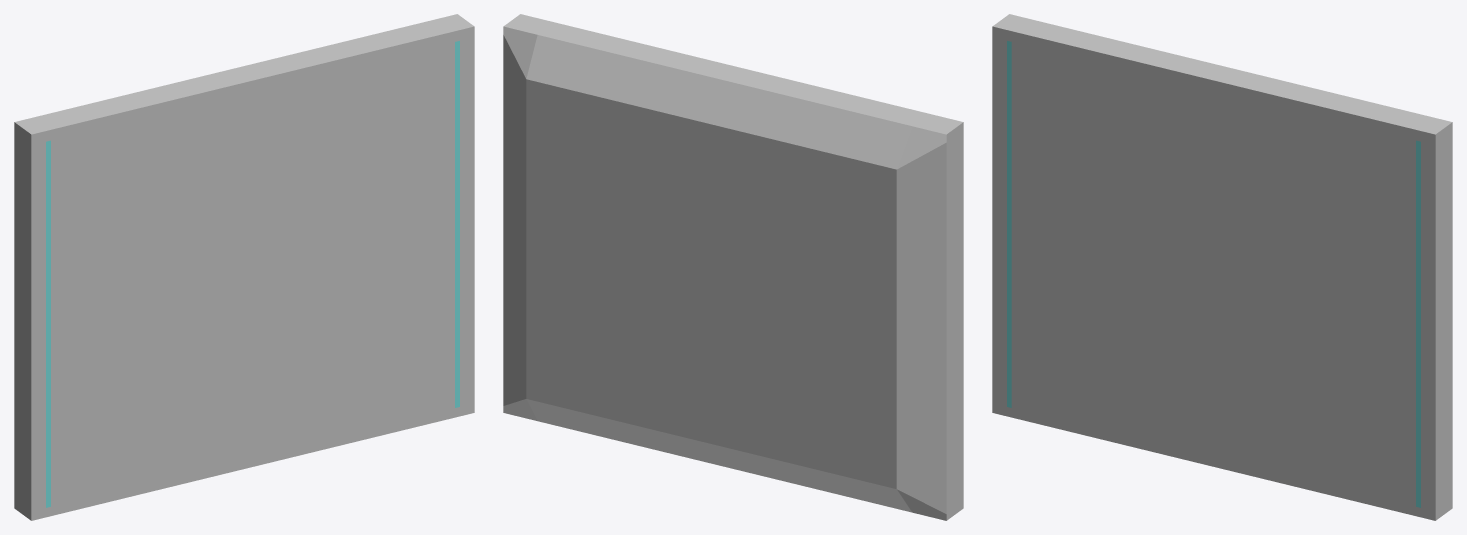
The model's file is Wall_Middle.fbx.
The picture shows the model from 3 angles, left to right: view 1: azimuth 30°, elevation 25°; view 2: azimuth 150°, elevation 25°; view 3: azimuth 330°, elevation 25°; orthographic projection.
Parts seen in each view (by area): view 1: Wall_Middle; view 2: Wall_Middle; view 3: Wall_Middle.
Boxes of the visible parts, x1,y1,x2,y2 form: Wall_Middle: (14,14,474,520); Wall_Middle: (503,14,963,520); Wall_Middle: (992,14,1452,520).
Size of the model in its own units: 3 by 0.3583 by 2.5.
